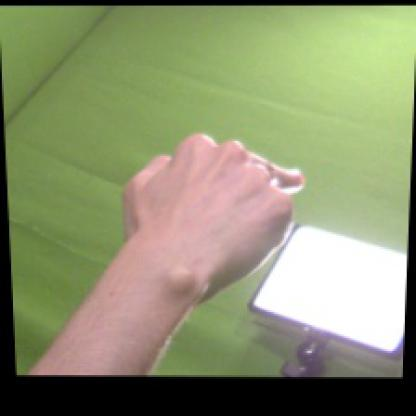Hand: (124, 133, 306, 300)
